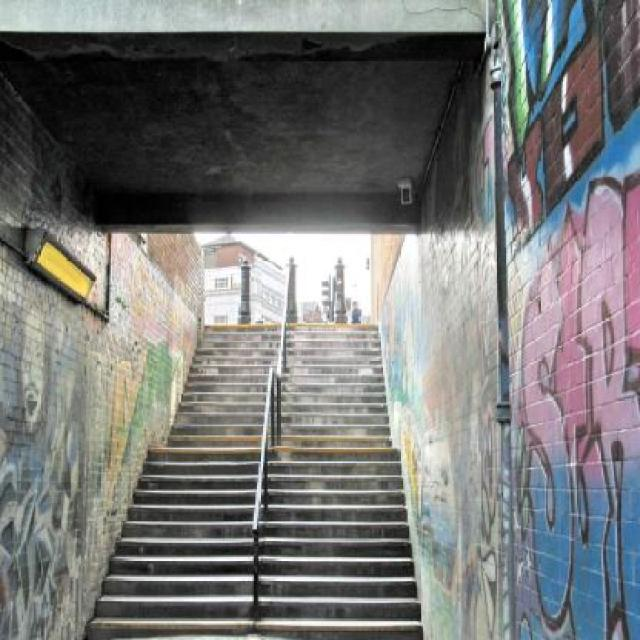stair: (83, 324, 423, 640)
